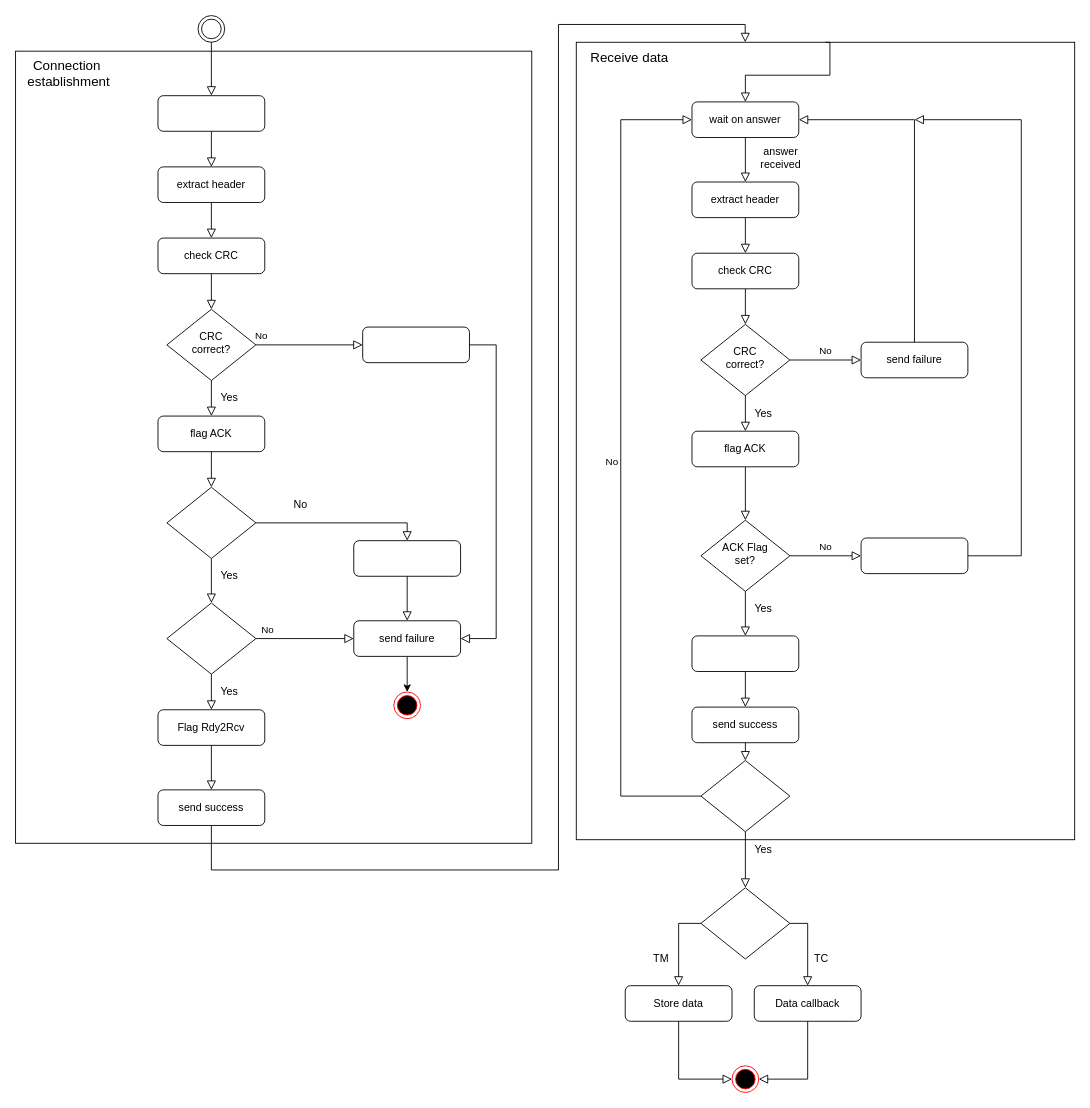
Image size: 1090x1108. Some labels were removed from this diagram. Here are the shapes that lost their labels. From the top down, the centre of each, then its label:
(x=211, y=113): receive request
(x=415, y=344): Unset all Frags
(x=211, y=522): ID known?
(x=407, y=558): Set "ID unknown"-Flag
(x=914, y=555): send last answer again
(x=211, y=638): Req2send - Flag set?
(x=745, y=653): add receiced data to buffer
(x=745, y=796): END Flag set?
(x=745, y=923): ID type
